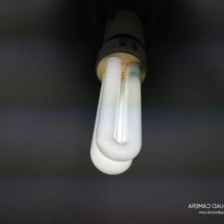light_bulb: (80, 44, 151, 182)
